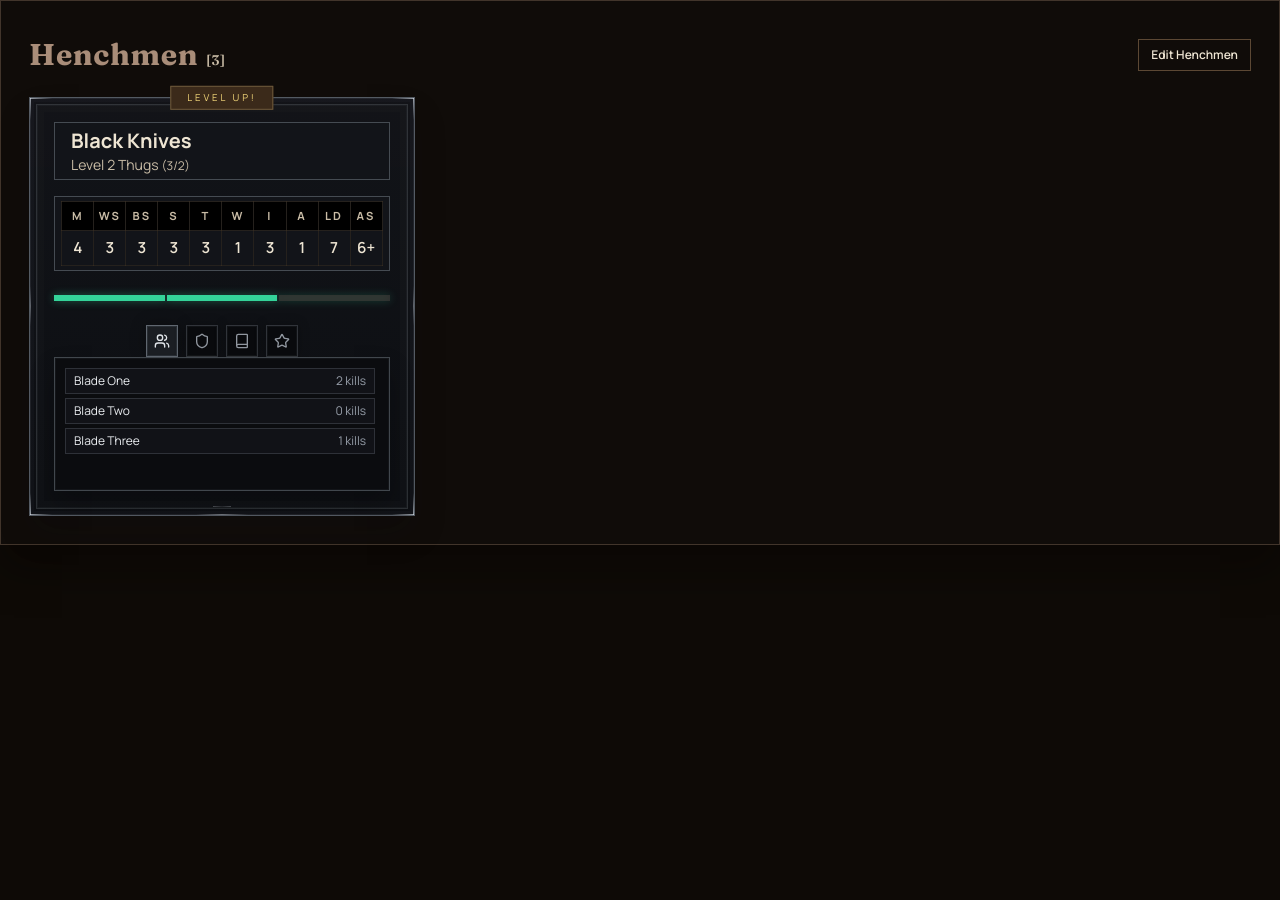
Scenario: UnitSection: henchmen create and save › never blocks adding a group or a member: size only warns (decision 12)
Click the button "Edit Henchmen" at (1195, 55), box [1138, 39, 1251, 71]
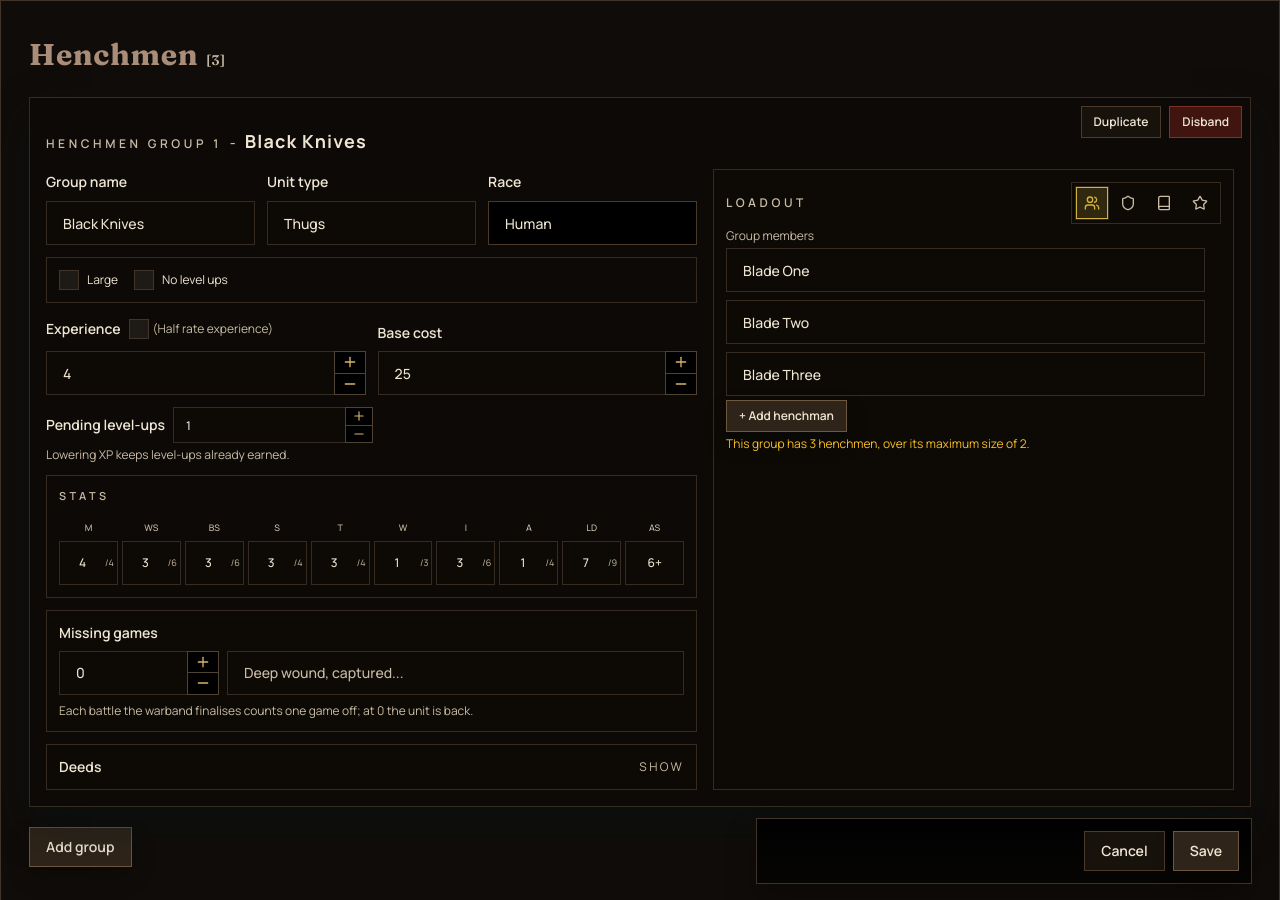
Now the message reads "This group has 3 henchmen, over its maximum size of 2.", box [726, 435, 1030, 452]
Now the button "Add group" is enabled, box [29, 826, 132, 866]
Now the button "+ Add henchman" is enabled, box [726, 400, 847, 432]
